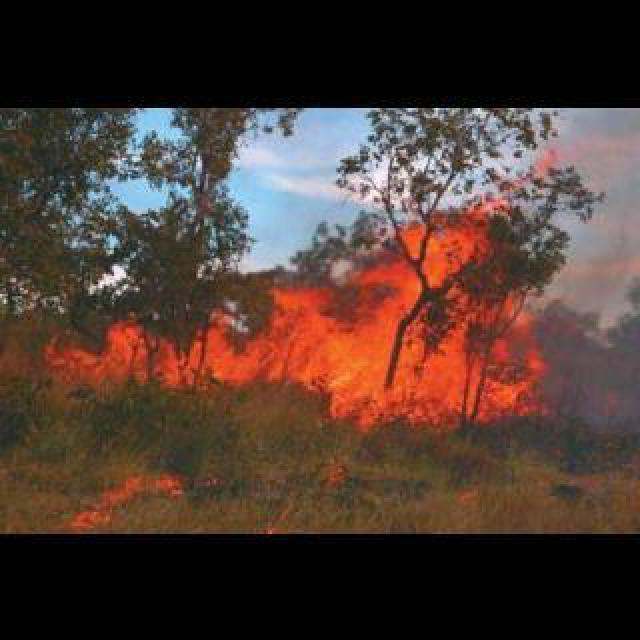Fire: (44, 188, 538, 422), (74, 474, 186, 526)
